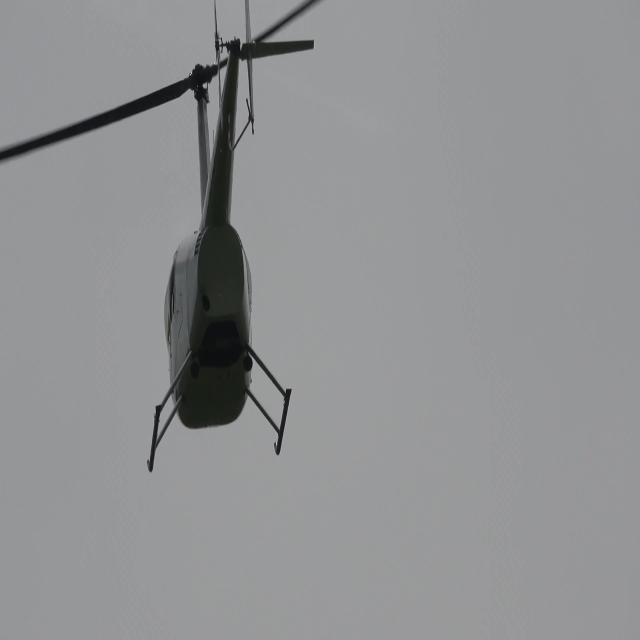CIV_HELO: (146, 0, 316, 476)
